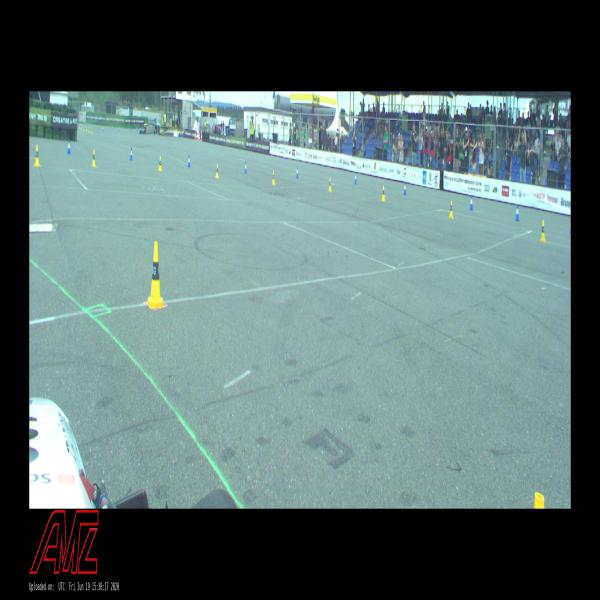blue_cone: (516, 205, 520, 222), (67, 139, 71, 154), (469, 196, 473, 210), (403, 181, 406, 196), (244, 161, 247, 174), (354, 172, 357, 185), (130, 148, 133, 160), (188, 155, 190, 168), (296, 166, 298, 178)
yellow_cone: (146, 241, 165, 309), (533, 491, 545, 509), (540, 220, 546, 242), (34, 146, 40, 166), (92, 149, 96, 167), (449, 200, 453, 218), (381, 185, 385, 202), (159, 155, 162, 172), (329, 178, 332, 193), (216, 164, 219, 178), (272, 171, 275, 185)
